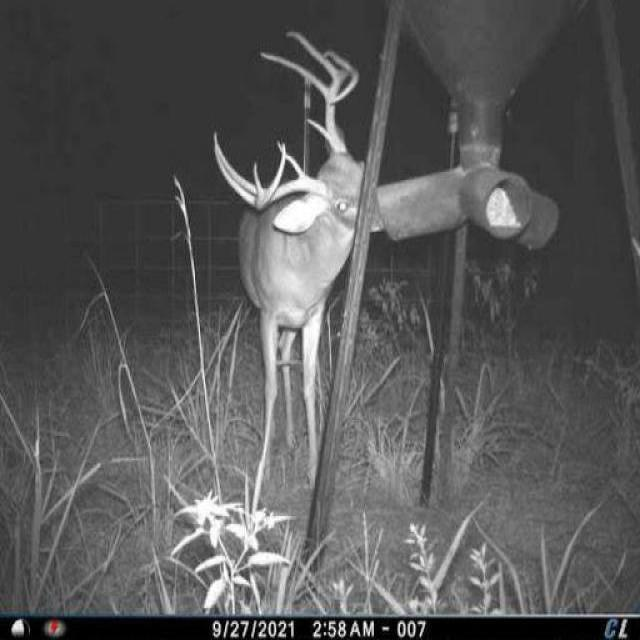deer: (202, 18, 380, 510)
